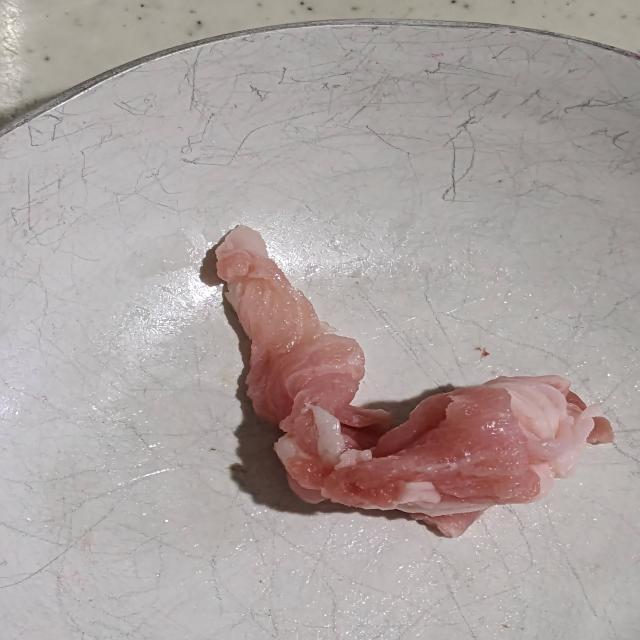NG raw pork,: (194, 212, 625, 551)
